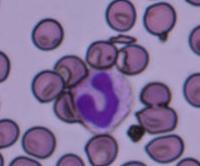N: (72, 67, 132, 134)
